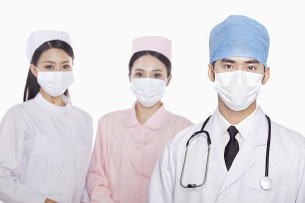Mask: (215, 55, 268, 108)
